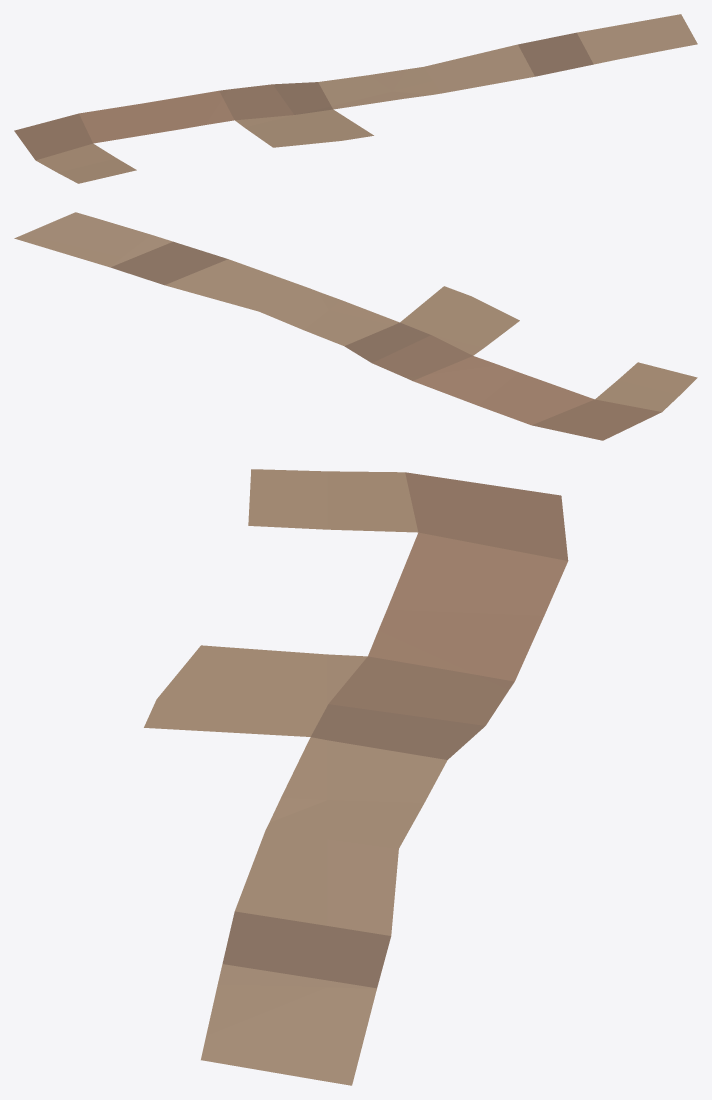
The model's file is farm_-48_-38_soil.glb.
The picture shows the model from 3 angles, top to bottom: view 1: azimuth 30°, elevation 25°; view 2: azimuth 150°, elevation 25°; view 3: azimuth 270°, elevation 25°; orthographic projection. The views are drawn at different scales.
Visible parts, largest first — view 1: geometry_0; view 2: geometry_0; view 3: geometry_0.
Part boxes in pixels (left/top/right/bottom): geometry_0: left=14, top=14, right=697, bottom=183; geometry_0: left=14, top=212, right=697, bottom=440; geometry_0: left=144, top=469, right=568, bottom=1085.
Size of the model in its own units: 257 by 3.54 by 74.71.
